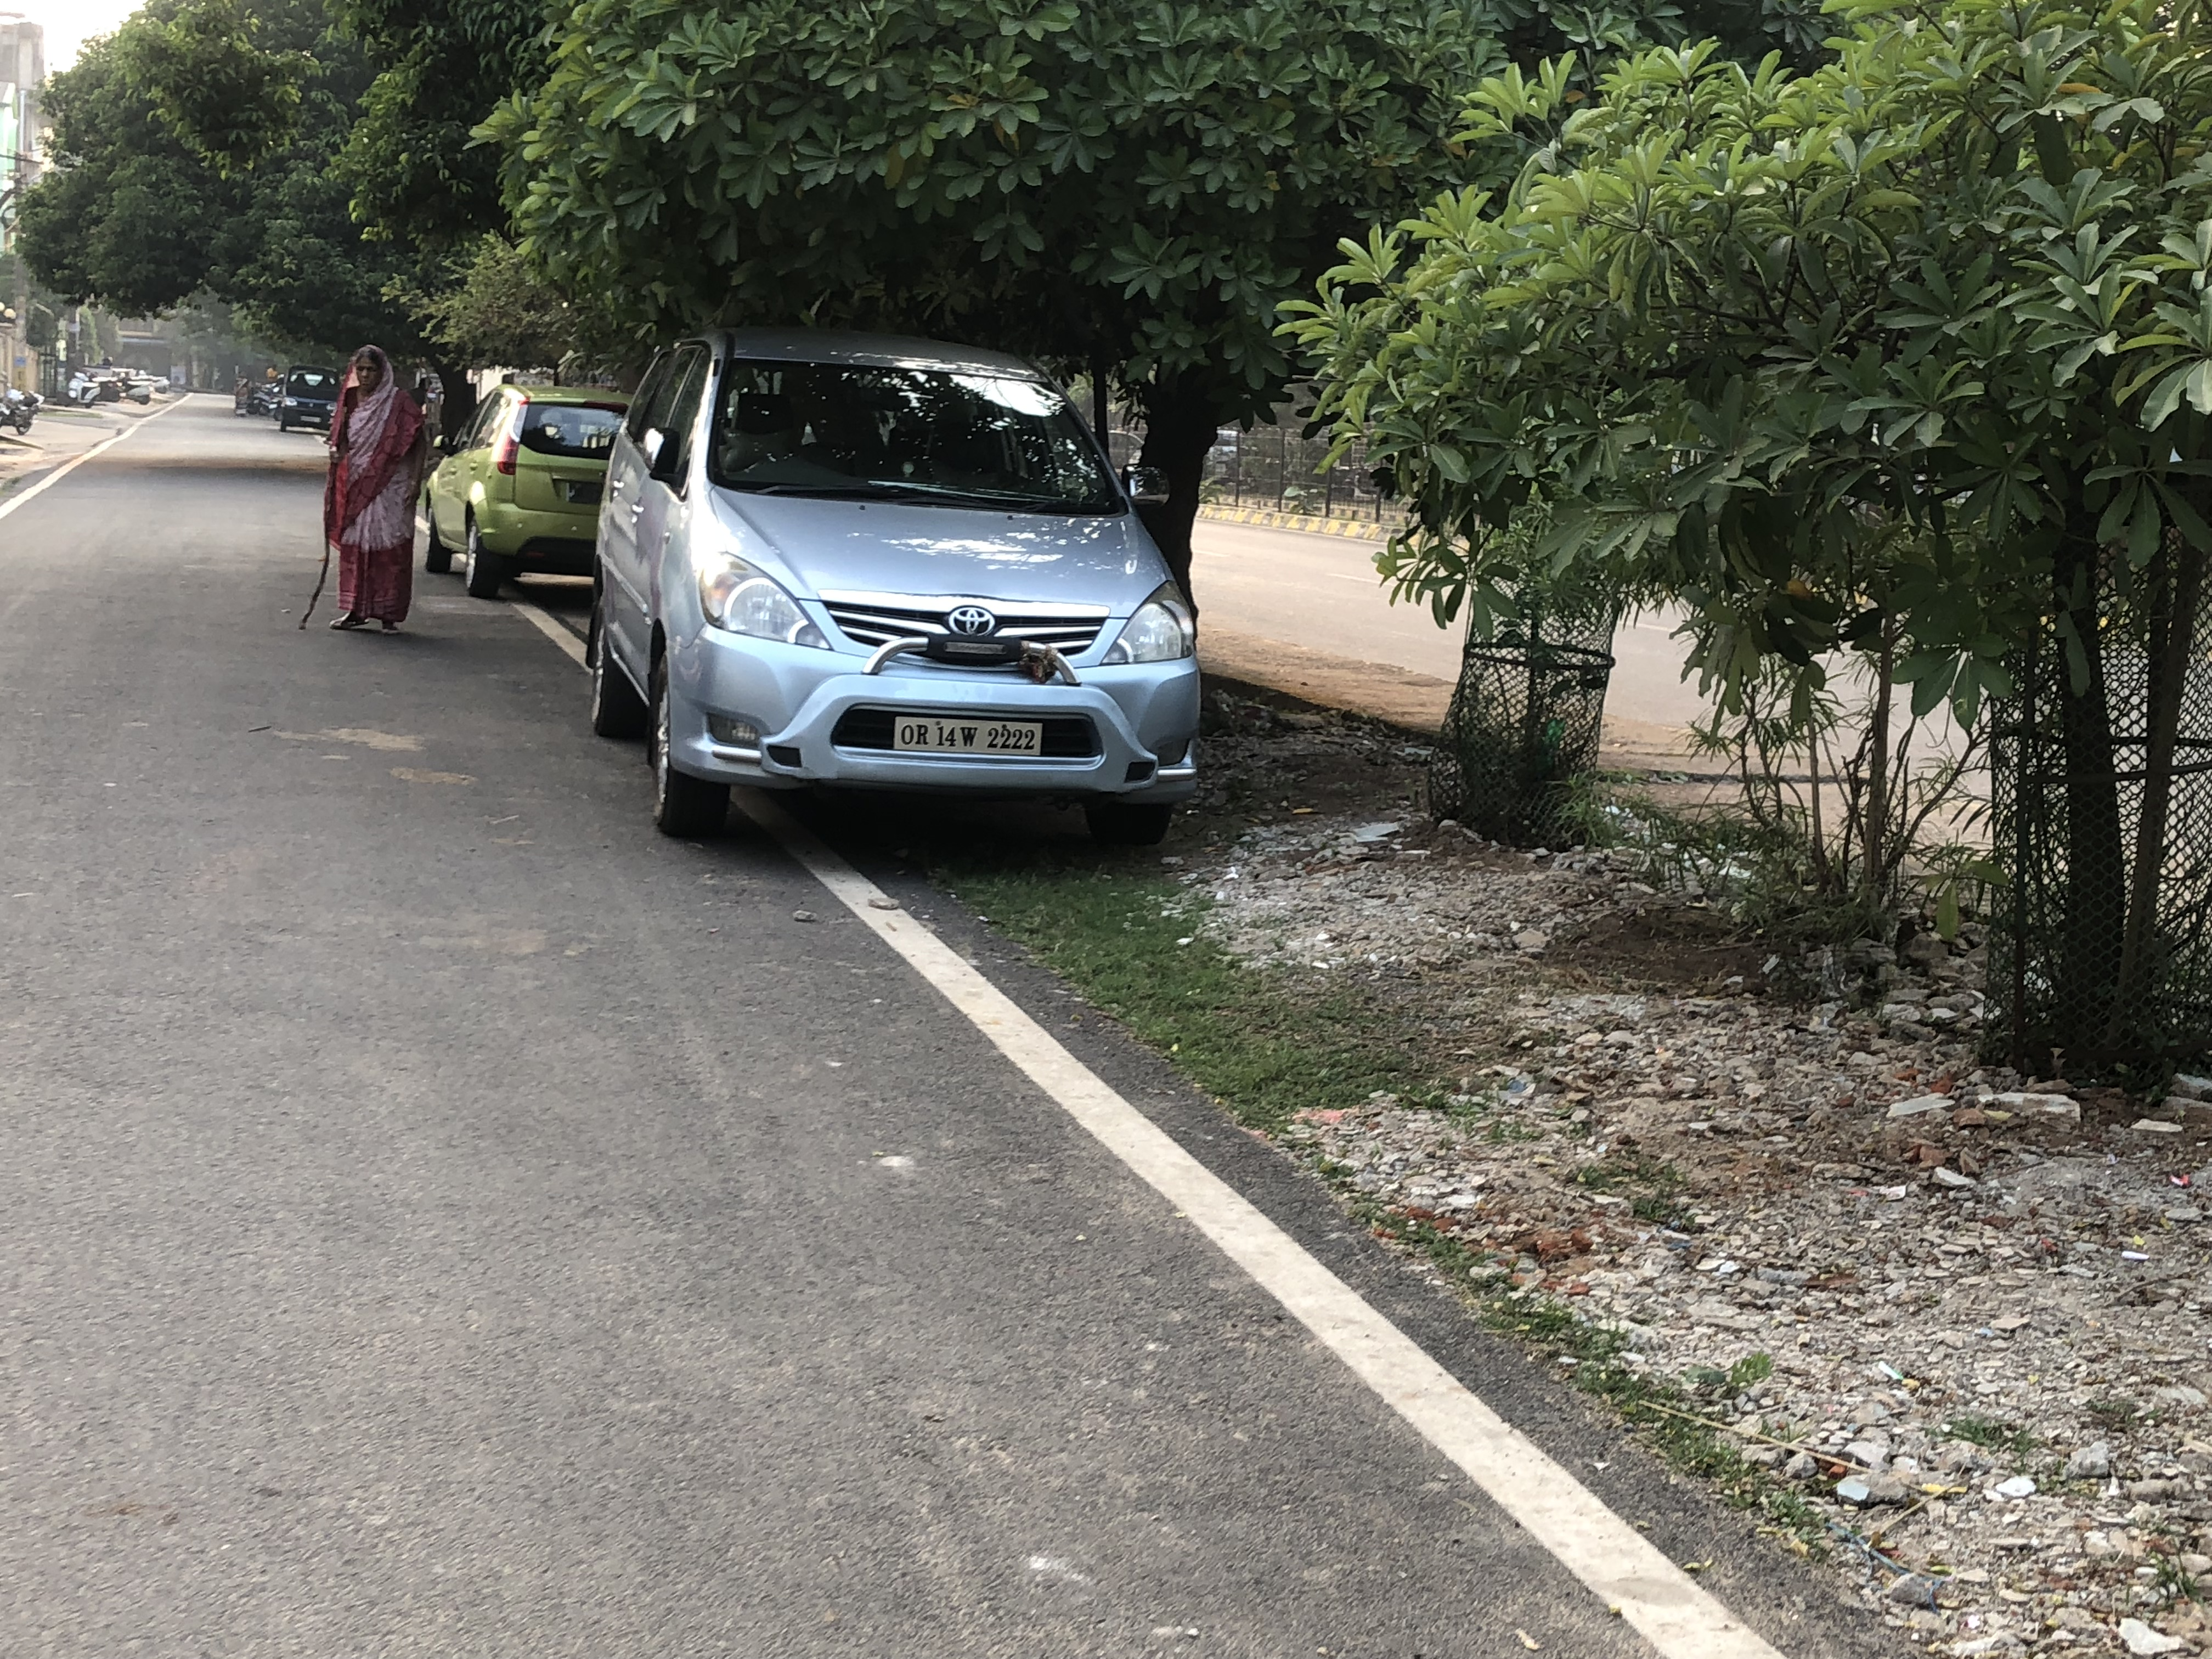licenseplate: (881, 707, 1046, 777)
